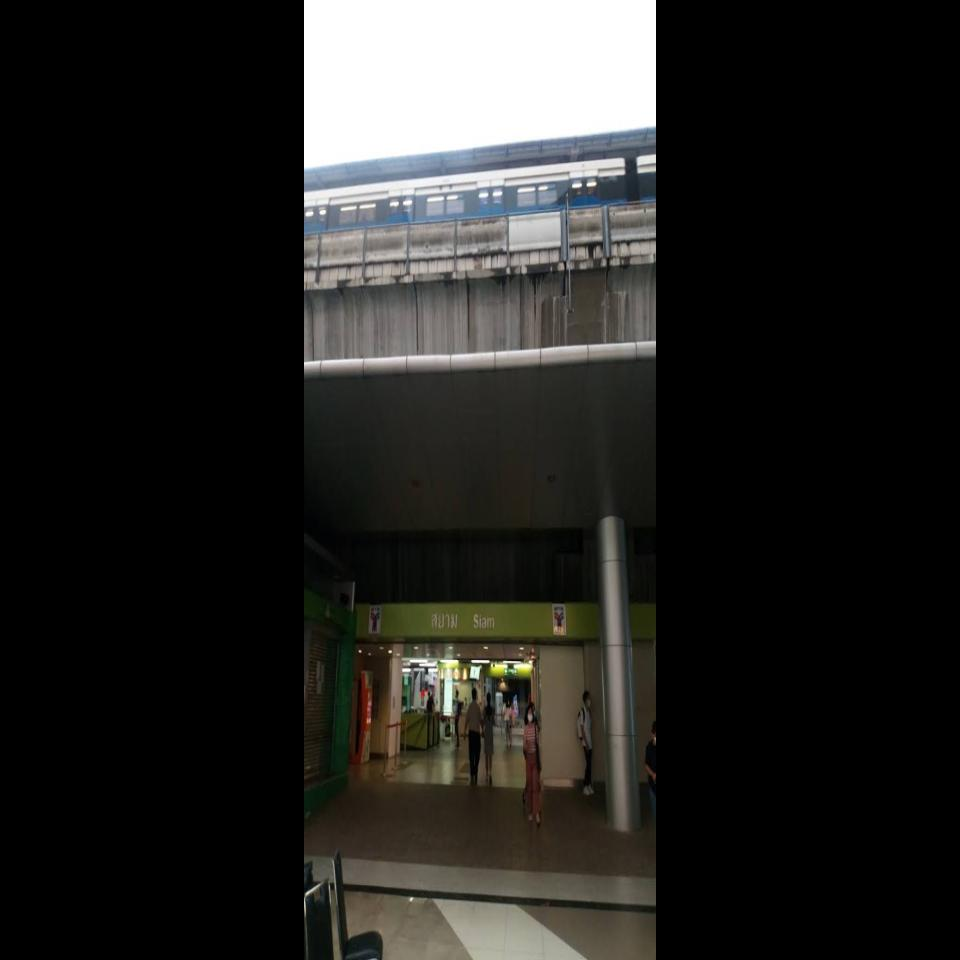signage: (368, 604, 567, 637), (368, 604, 495, 636), (431, 612, 495, 631)
